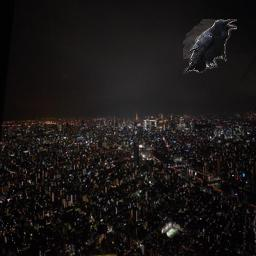Crow: (183, 19, 237, 75)
